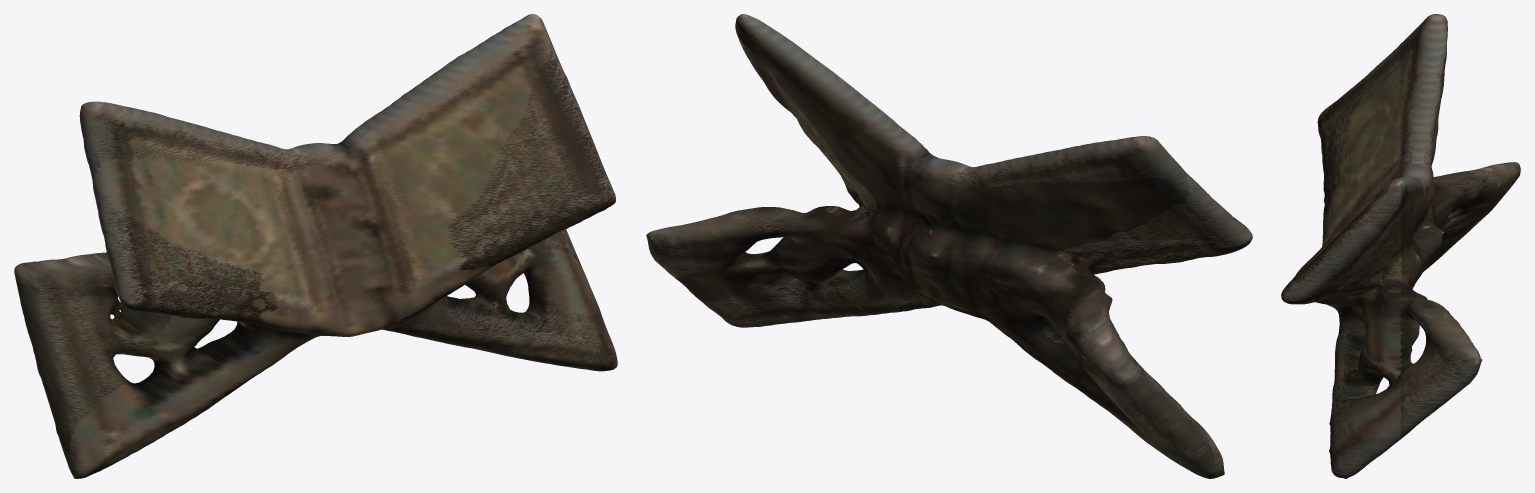
Rendered from kfl-2261.glb.
3 views of the same model, side by side, from view 1: azimuth 30°, elevation 25°; view 2: azimuth 150°, elevation 25°; view 3: azimuth 270°, elevation 25° (orthographic). The views are drawn at different scales.
Visible parts, largest first — view 1: geometry_0; view 2: geometry_0; view 3: geometry_0.
Boxes of the visible parts, bbox=[...] form: geometry_0: bbox=[14, 14, 617, 478]; geometry_0: bbox=[646, 14, 1252, 478]; geometry_0: bbox=[1281, 14, 1520, 478].
Bounding box in the file's own units: 0.9898 × 0.6334 × 0.4795.
Materials: 1 (1 with a texture image).
